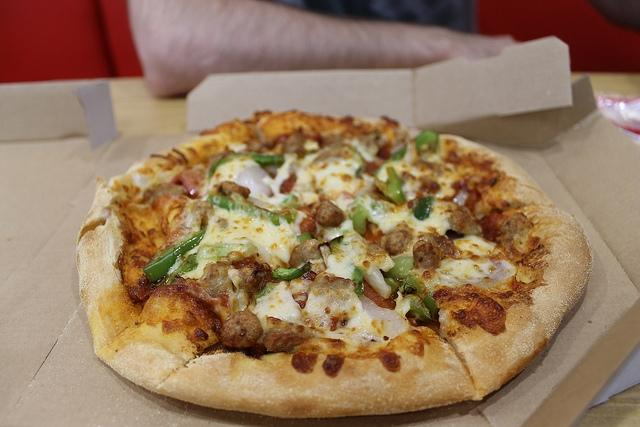bell pepper: (142, 226, 206, 282), (208, 190, 300, 226), (208, 153, 285, 179), (157, 254, 197, 287), (374, 167, 406, 205), (272, 260, 311, 280), (387, 256, 415, 278), (352, 204, 370, 235), (414, 196, 434, 220), (424, 292, 439, 316), (353, 267, 363, 298), (296, 232, 318, 244), (244, 198, 260, 208)
